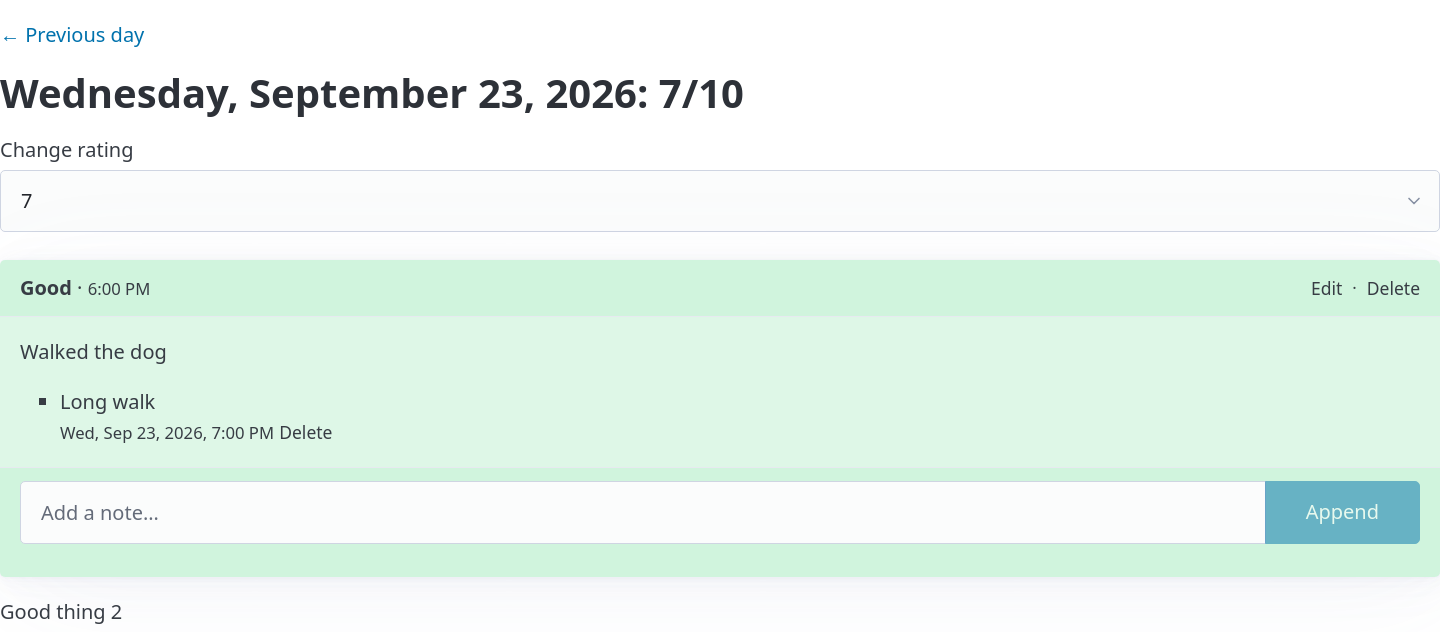
Test: DayPage › deletes today's entry and its note, then reloads the day
Click the button with aria-label "Delete note". click: (306, 432)
box: [279, 419, 332, 445]
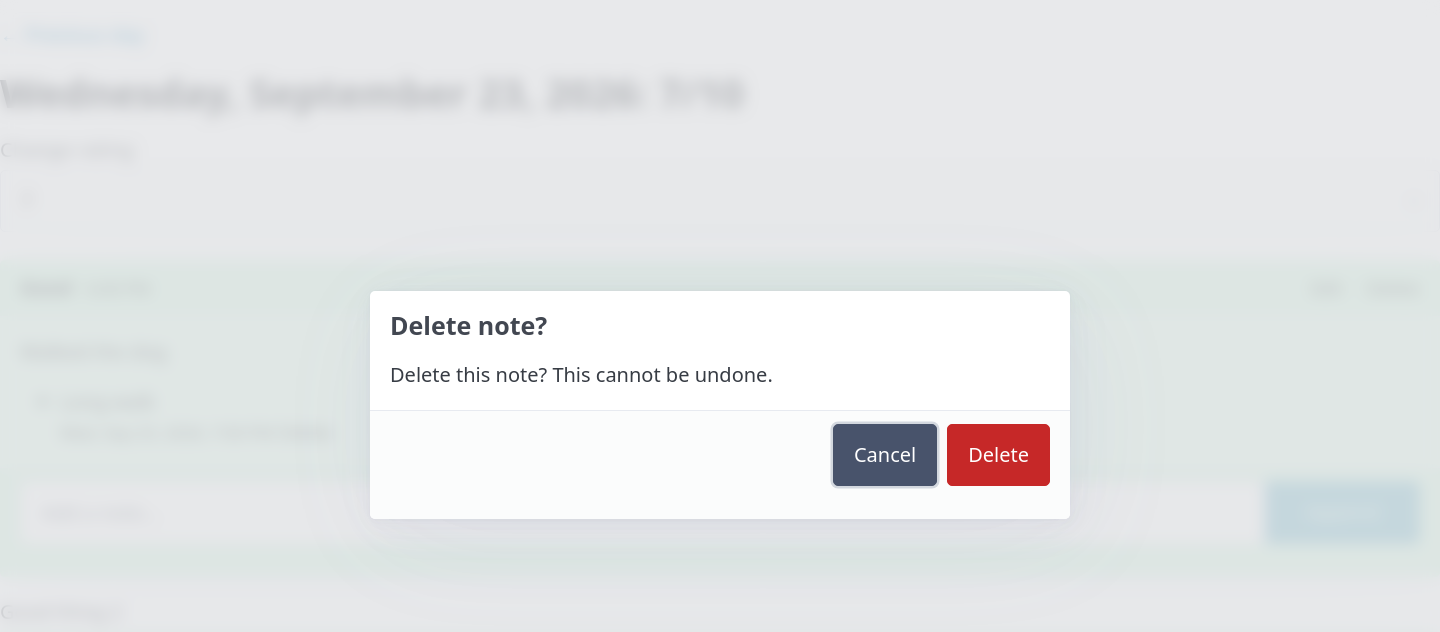
Click the button "Delete". click: (999, 455)
box: [947, 424, 1050, 486]
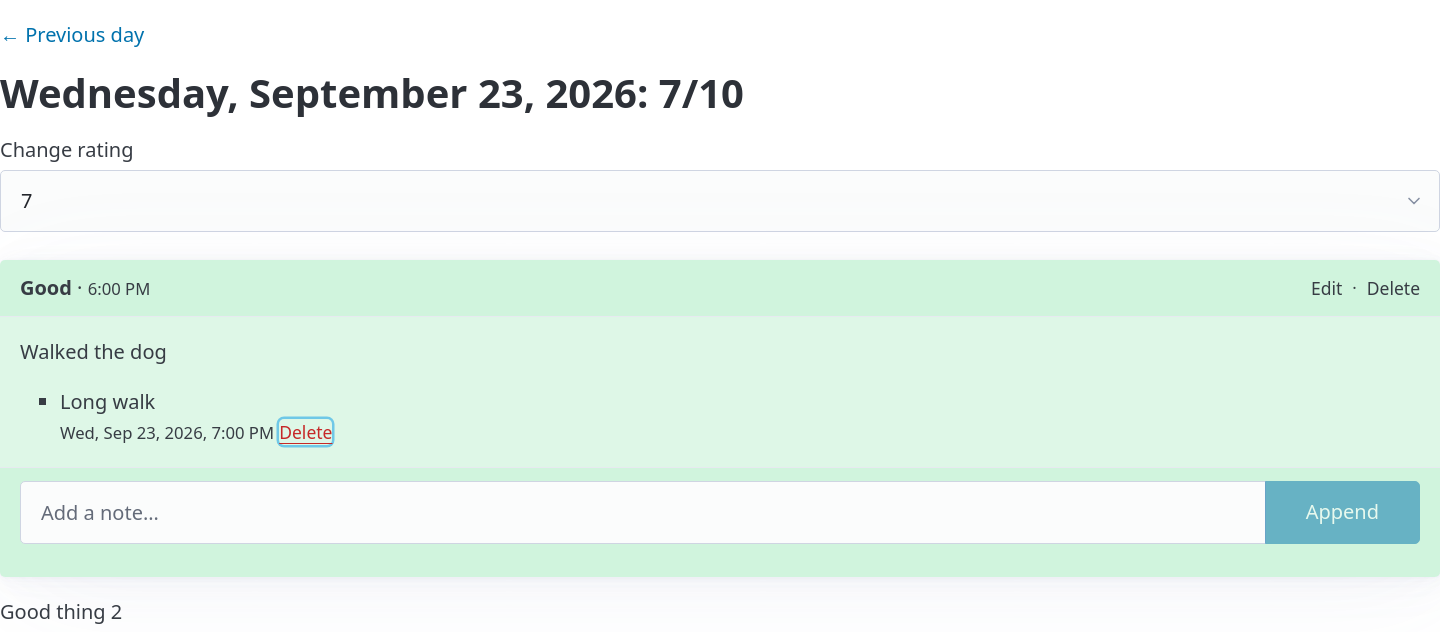
Click the button "Delete" in the row of "6:00 PM". click: (1393, 288)
box: [1367, 275, 1420, 301]
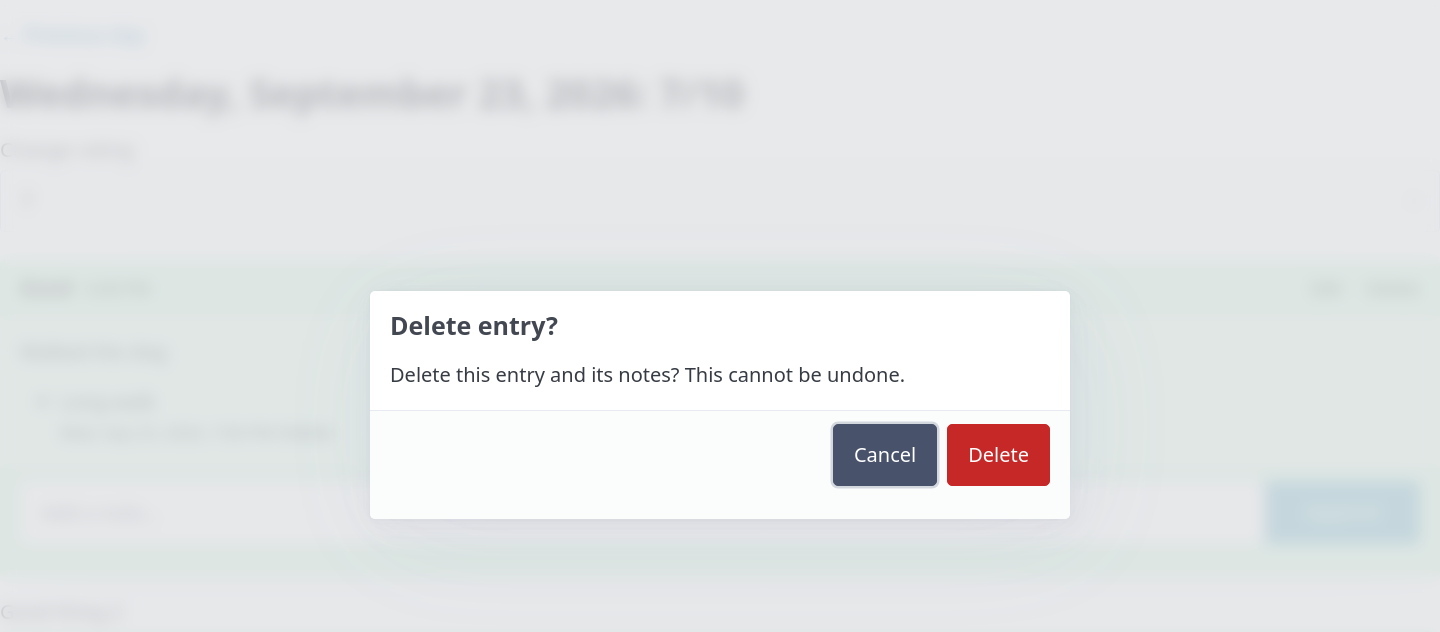
Click the button "Delete". click: (999, 455)
box: [947, 424, 1050, 486]
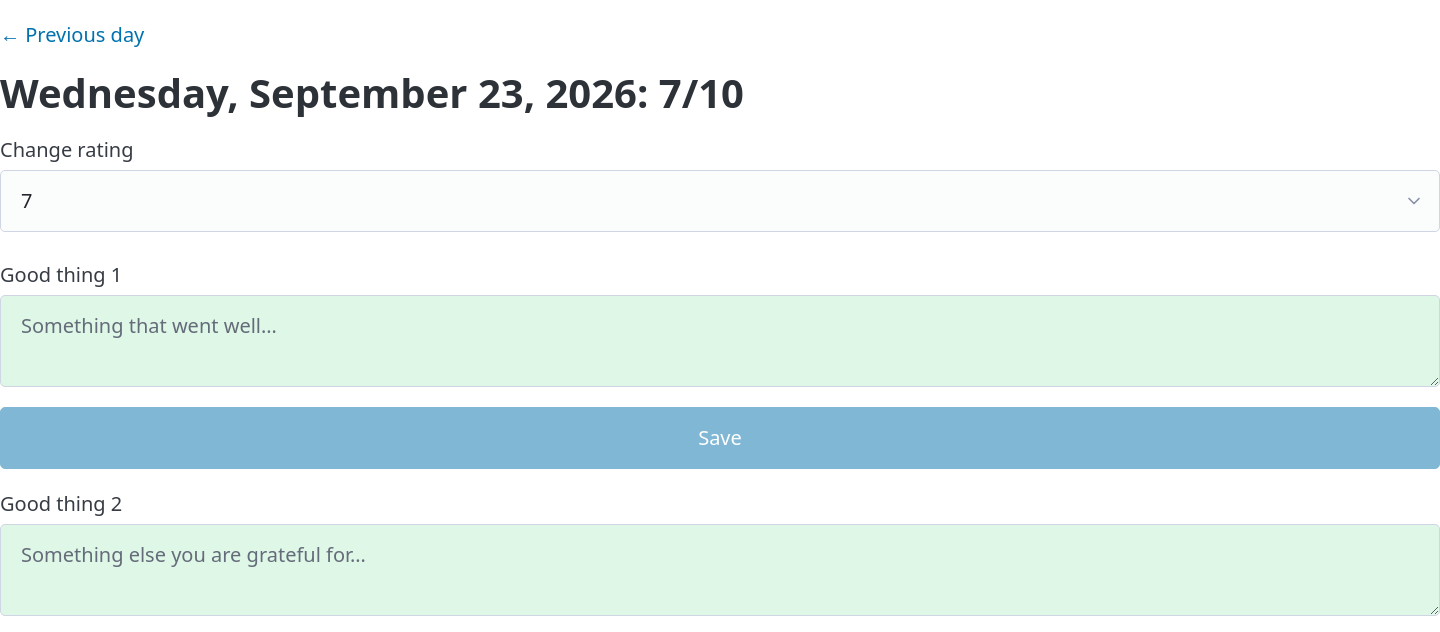
Expected: the text box labelled "Good thing 1" is shown, [0, 294, 1439, 386]
